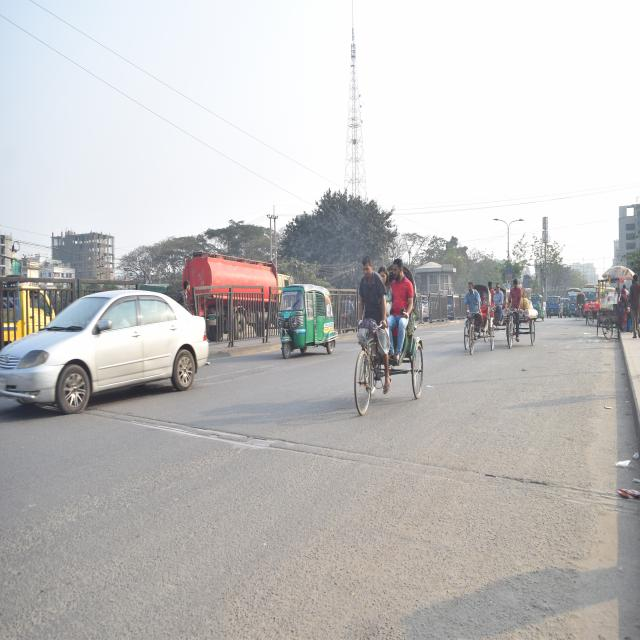bus: (566, 287, 581, 317), (584, 283, 600, 304)
car: (1, 274, 209, 443)
pickup-van: (544, 291, 563, 321)
truck: (185, 240, 282, 335)
